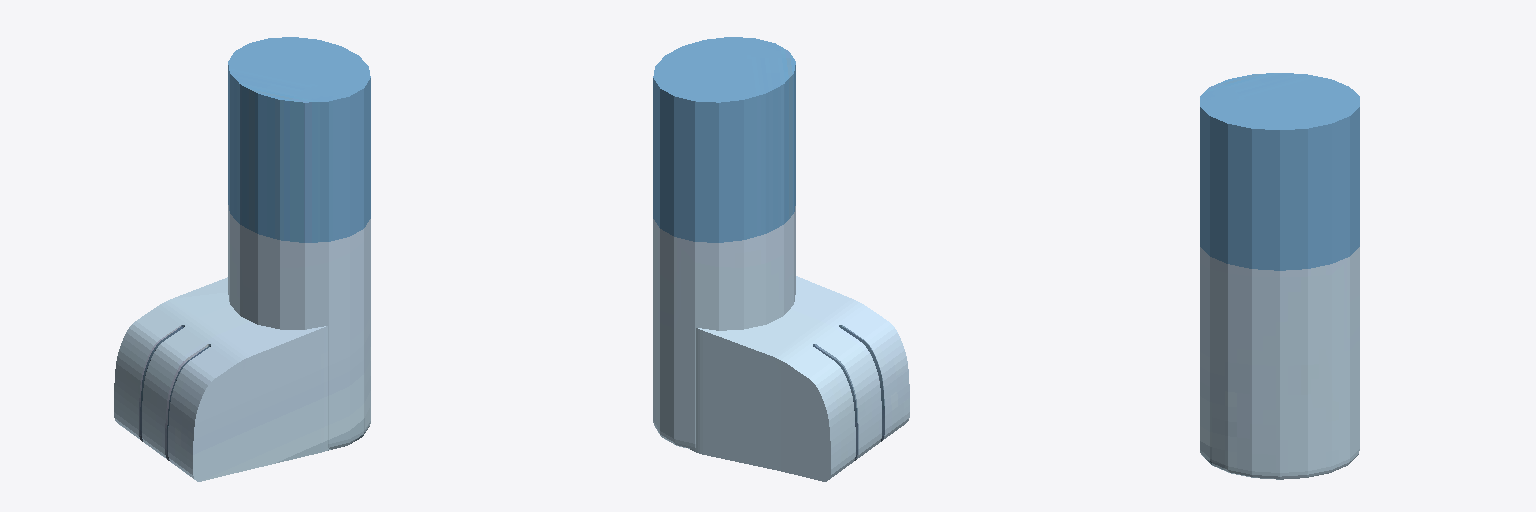
The picture shows the model from 3 angles: view 1: azimuth 30°, elevation 25°; view 2: azimuth 150°, elevation 25°; view 3: azimuth 270°, elevation 25°; orthographic projection.
Parts seen in each view (by area): view 1: Cylinder010; view 2: Cylinder010; view 3: Cylinder010.
Part boxes in pixels (x1,y1,x2,y2): Cylinder010: (114,37,370,481); Cylinder010: (653,37,909,481); Cylinder010: (1200,73,1359,479).
Bounding box in the file's own units: 14 × 22.9 × 9.44.
Materials: 1 (1 with a texture image).